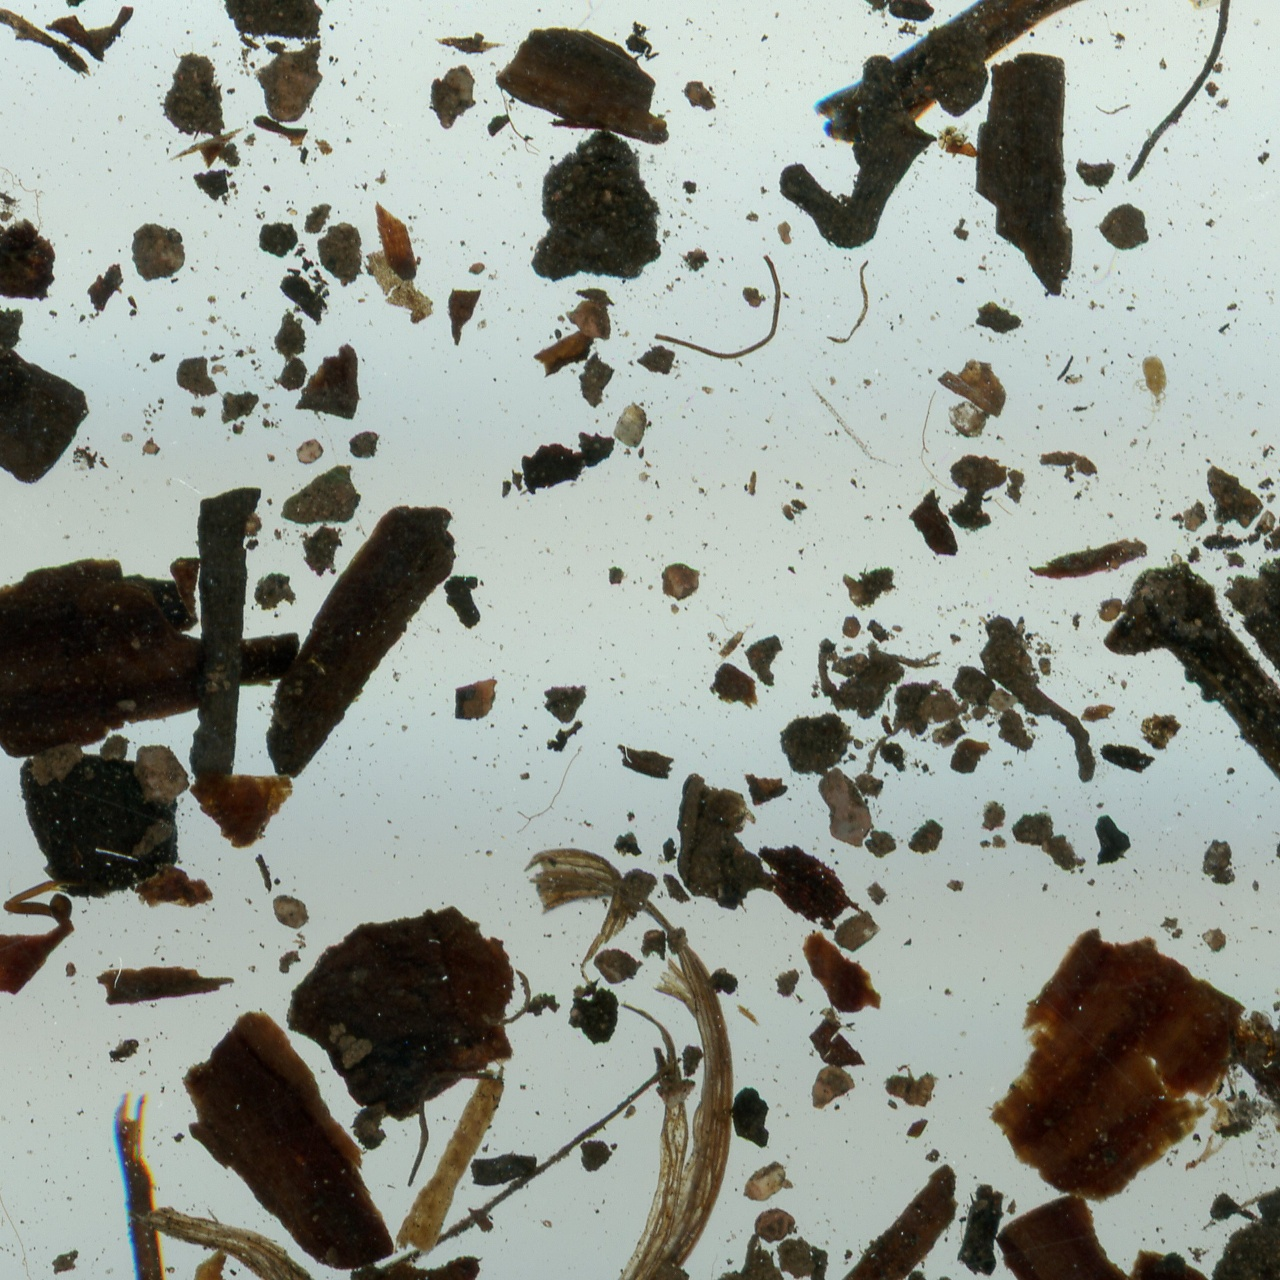arthropod: (1131, 350, 1171, 430)
